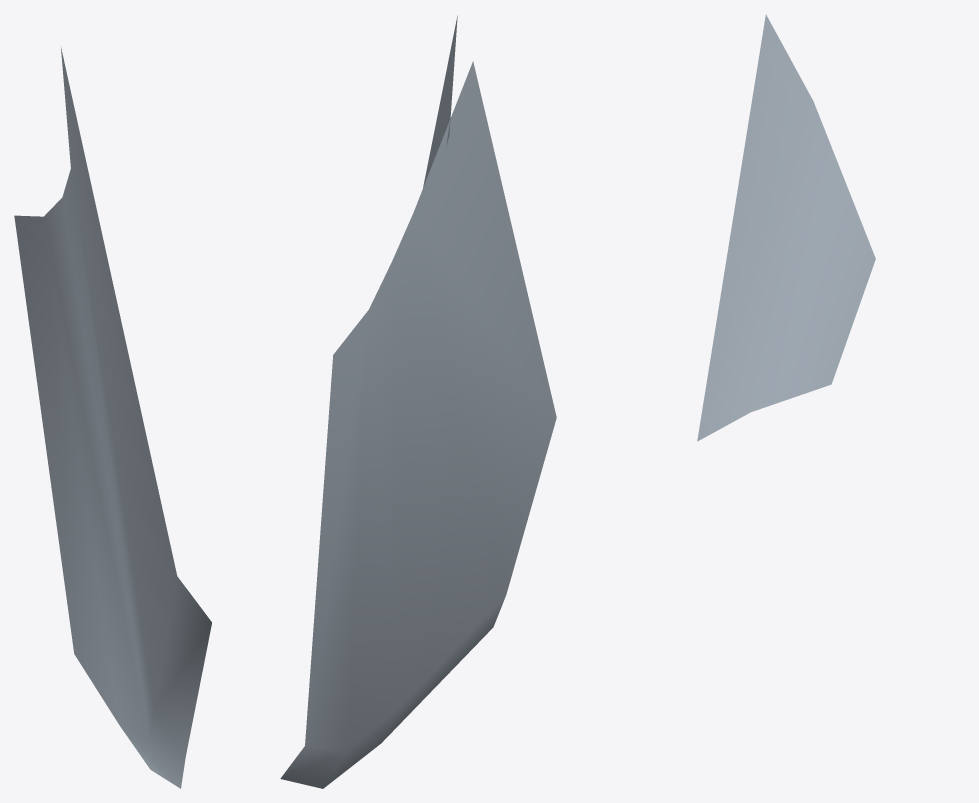
File: tibionavicular-ligament-l.glb
The picture shows the model from 3 angles, left to right: view 1: azimuth 30°, elevation 25°; view 2: azimuth 150°, elevation 25°; view 3: azimuth 270°, elevation 25°; orthographic projection. The views are drawn at different scales.
Parts seen in each view (by area): view 1: Tibionavicular ligament.l; view 2: Tibionavicular ligament.l; view 3: Tibionavicular ligament.l.
Part boxes in pixels (bbox=[...]): Tibionavicular ligament.l: bbox=[14, 47, 211, 788]; Tibionavicular ligament.l: bbox=[280, 15, 556, 788]; Tibionavicular ligament.l: bbox=[697, 14, 875, 441].
Bounding box in the file's own units: 0.00532 × 0.0295 × 0.0139.
